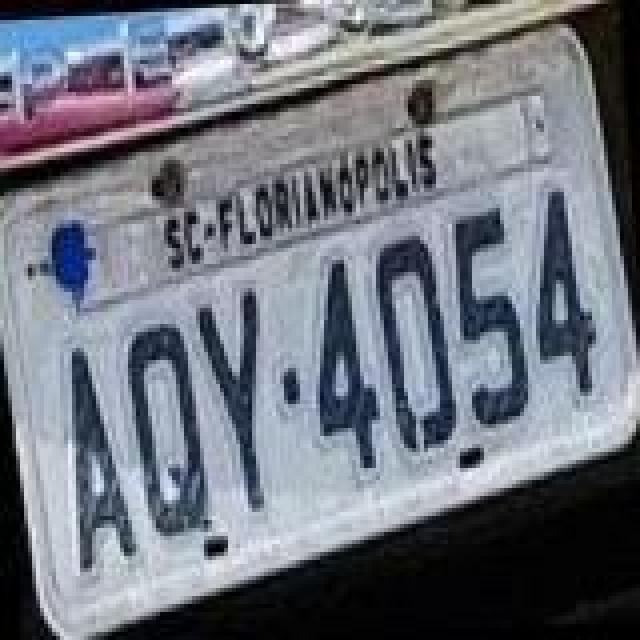4: (302, 256, 386, 480), (526, 184, 602, 400)
5: (444, 204, 532, 436)
A: (66, 340, 142, 572)
O: (370, 232, 462, 456)
Q: (122, 322, 214, 542)
Y: (190, 284, 274, 516)
